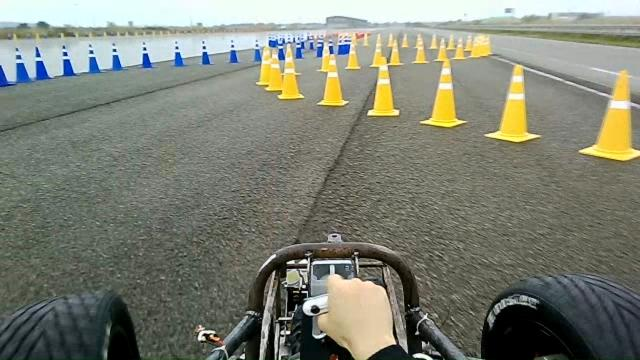blue cone: (58, 44, 79, 77), (14, 46, 33, 82), (34, 46, 54, 80), (107, 42, 127, 71), (86, 43, 102, 73), (198, 39, 213, 66), (227, 38, 241, 63), (172, 40, 185, 66), (141, 40, 153, 68)
yellow cone: (578, 70, 640, 162), (484, 63, 541, 143), (419, 58, 468, 128), (366, 55, 402, 117), (315, 52, 350, 108), (277, 43, 304, 100), (265, 50, 283, 91), (255, 47, 272, 85)
